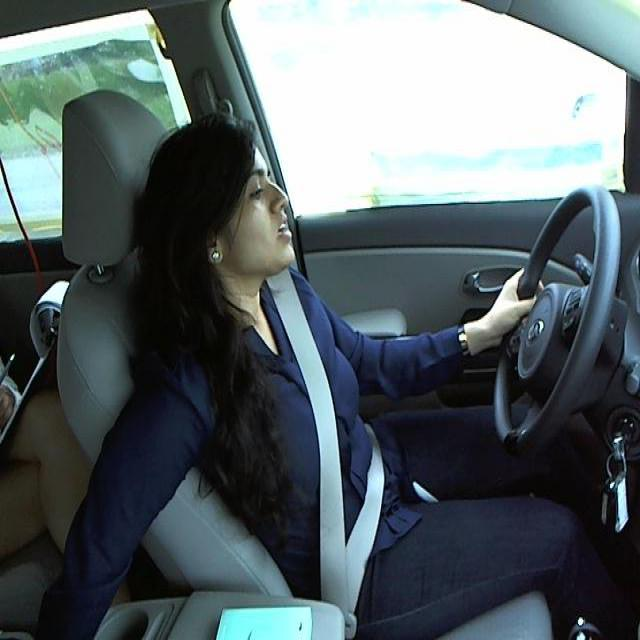seatbelt: (272, 289, 392, 603)
